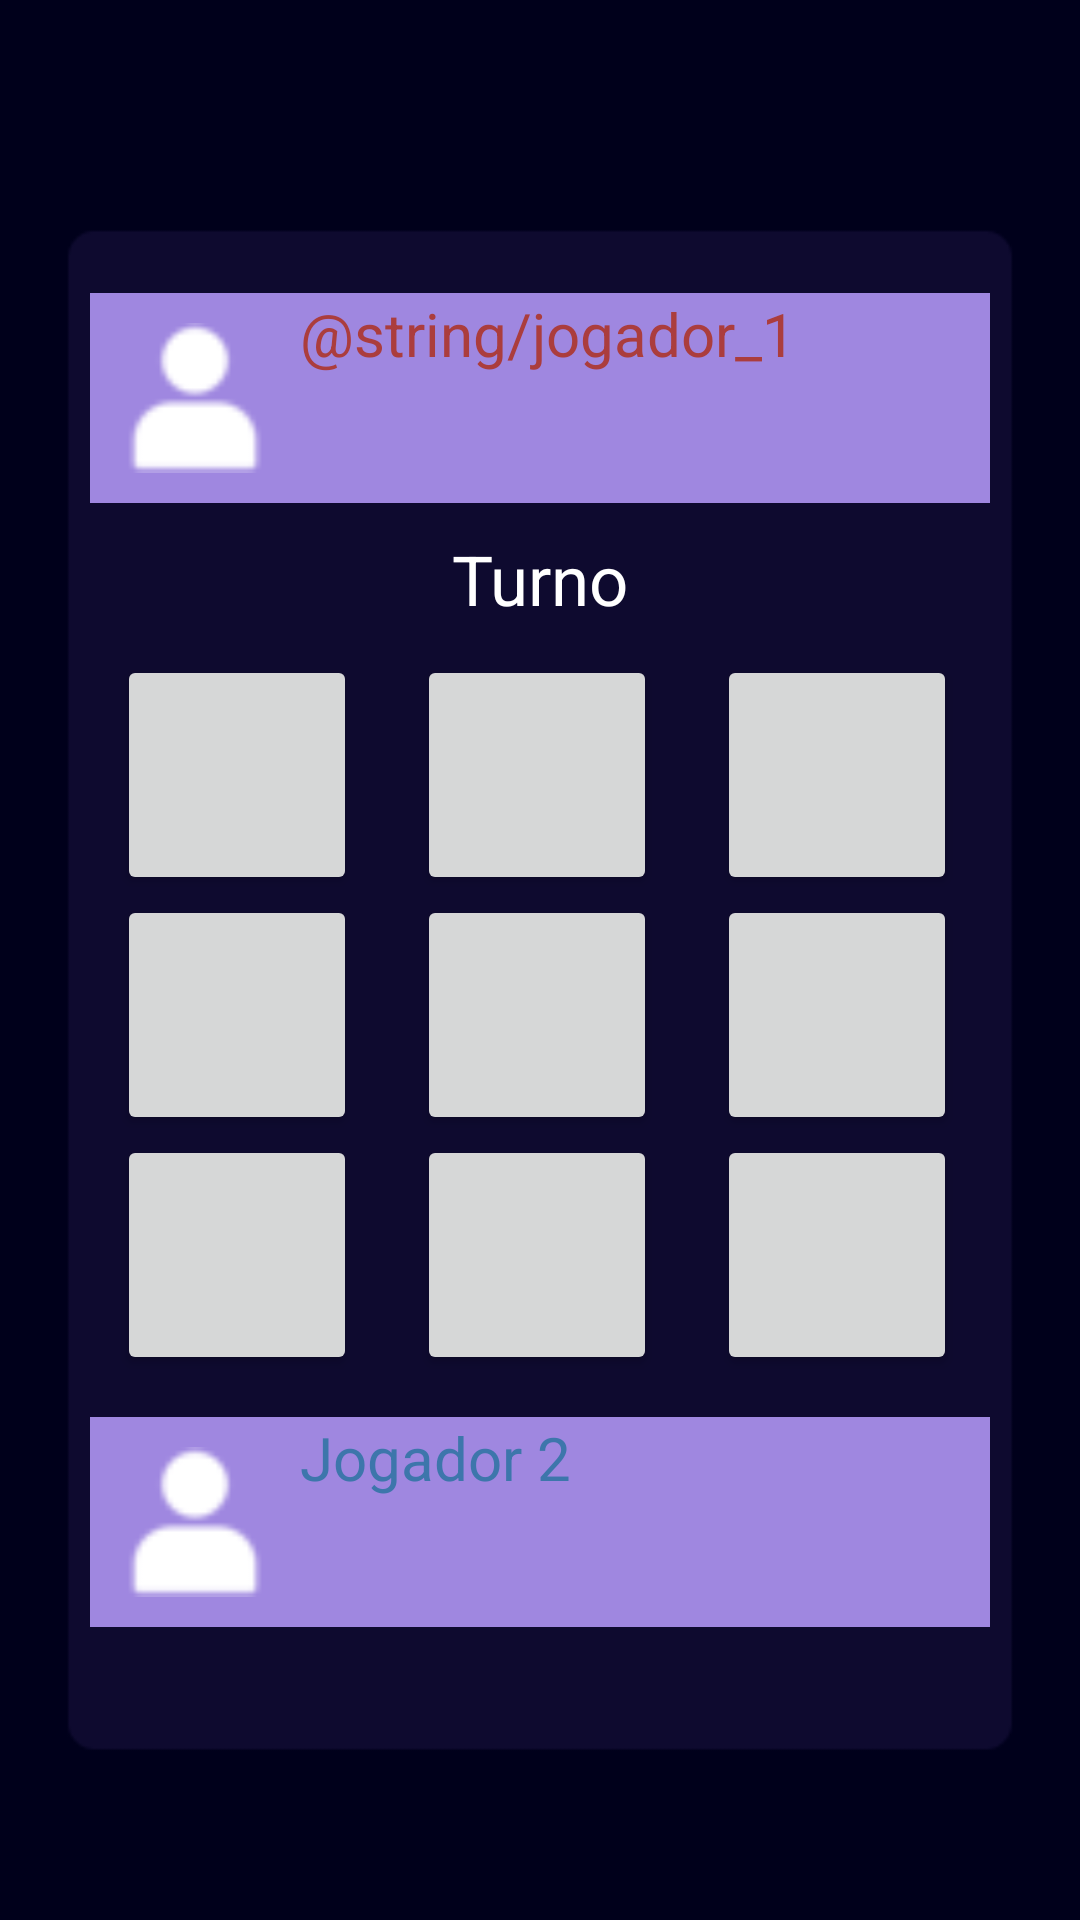

Icon click points for this 1080 × 1920 phone screenshot, format [x,y]:
user: [195,398], [195,1522]
